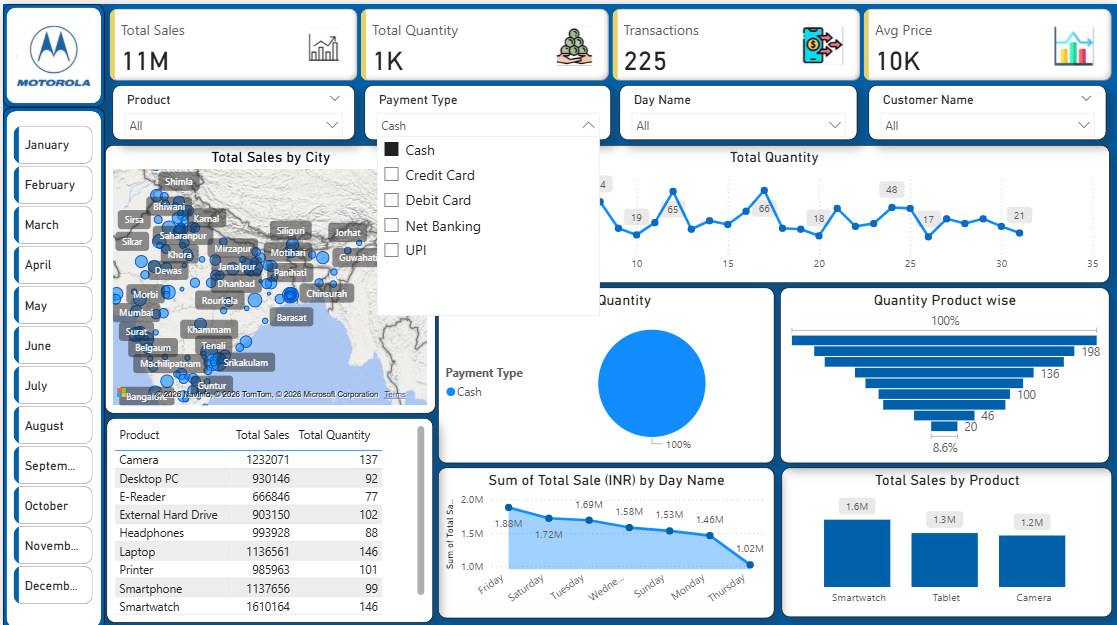

The page's visual inventory and layout, read from the dashboard file:
{"tool":"powerbi","page":{"name":"Page 1","canvas":[1280,720],"ordinal":0},"visuals":[{"type":"shape","box":[0,0,116.7,118.3],"z":0},{"type":"image","box":[10,11.7,95,95],"z":1000},{"type":"shape","box":[0,118.3,116.7,601.7],"z":1001},{"type":"advancedSlicerVisual","fields":{"Values":["Sales_Data.Sales Date.Variation.Date Hierarchy.Month"]},"box":[6.7,135,101.7,570],"z":1002},{"type":"cardVisual","fields":{"Data":["Sales_Data.Total Sales","Sales_Data.Total Quantity","Sales_Data.Transactions","Sales_Data.Avg Price"]},"box":[116.7,0,1163.3,93.3],"z":1003},{"type":"map","fields":{"Category":["Sales_Data.City"],"Size":["Sales_Data.Total Sales"]},"box":[116.7,161.7,380,308.3],"z":1004},{"type":"lineChart","title":"Total Quantity","fields":{"Category":["Sales_Data.Sales Date.Variation.Date Hierarchy.Month","Sales_Data.Sales Date.Variation.Date Hierarchy.Day"],"Y":["Sales_Data.Total Quantity"]},"box":[500,161.7,771.7,158.3],"z":1005},{"type":"clusteredColumnChart","title":"Total Sales by Product","fields":{"Y":["Sum(Sales_Data.Total Sale (INR))"],"Category":["Sales_Data.Product"]},"box":[895,533.3,380,171.7],"z":1006},{"type":"pieChart","title":"Total Quantity","fields":{"Category":["Sales_Data.Payment Type"],"Y":["Sales_Data.Transactions"]},"box":[500,325,386.7,201.7],"z":1007},{"type":"funnel","title":"Quantity Product wise","fields":{"Category":["Sales_Data.Quantity"],"Y":["Sum(Sales_Data.Quantity)"]},"box":[893.3,325,378.3,201.7],"z":1008},{"type":"areaChart","fields":{"Category":["Sales_Data.Day Name"],"Y":["Sum(Sales_Data.Total Sale (INR))"]},"box":[500,533.3,386.7,173.3],"z":1009},{"type":"tableEx","title":"Total Quantity","fields":{"Values":["Sales_Data.Product","Sales_Data.Total Sales","Sales_Data.Total Quantity"]},"box":[118.3,475,375,235],"z":1010},{"type":"slicer","fields":{"Values":["Sales_Data.Product"]},"box":[125,93.3,278.3,63.3],"z":1011},{"type":"slicer","fields":{"Values":["Sales_Data.Payment Type"]},"box":[415,93.3,283.3,63.3],"z":1012},{"type":"slicer","fields":{"Values":["Sales_Data.Day Name"]},"box":[708.3,93.3,273.3,63.3],"z":1013},{"type":"slicer","fields":{"Values":["Sales_Data.Customer Name"]},"box":[995,93.3,273.3,63.3],"z":1014}]}

Visuals, with their boxes in screenshot pixels (x1, y1, x2, y2), scaled from the page's 1280x720 canvas onto the 1117x625 screenshot:
shape: [0,0,102,103]
image: [9,10,92,93]
shape: [0,103,102,624]
advancedSlicerVisual - Sales_Data.Sales Date.Variation.Date Hierarchy.Month: [6,117,95,612]
cardVisual - Sales_Data.Total Sales x Sales_Data.Total Quantity: [102,0,1116,81]
map - Sales_Data.City x Sales_Data.Total Sales: [102,140,433,408]
"Total Quantity" lineChart: [436,140,1110,278]
"Total Sales by Product" clusteredColumnChart: [781,463,1113,612]
"Total Quantity" pieChart: [436,282,774,457]
"Quantity Product wise" funnel: [780,282,1110,457]
areaChart - Sales_Data.Day Name x Sum(Sales_Data.Total Sale (INR)): [436,463,774,613]
"Total Quantity" tableEx: [103,412,430,616]
slicer - Sales_Data.Product: [109,81,352,136]
slicer - Sales_Data.Payment Type: [362,81,609,136]
slicer - Sales_Data.Day Name: [618,81,857,136]
slicer - Sales_Data.Customer Name: [868,81,1107,136]
